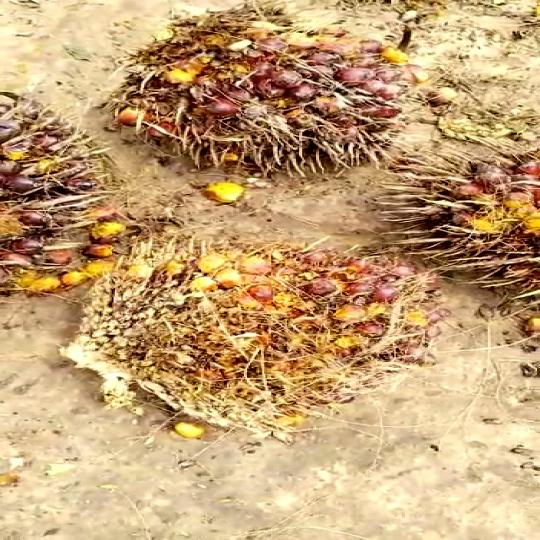masak: (71, 238, 449, 444), (105, 9, 427, 181), (0, 78, 147, 312)
